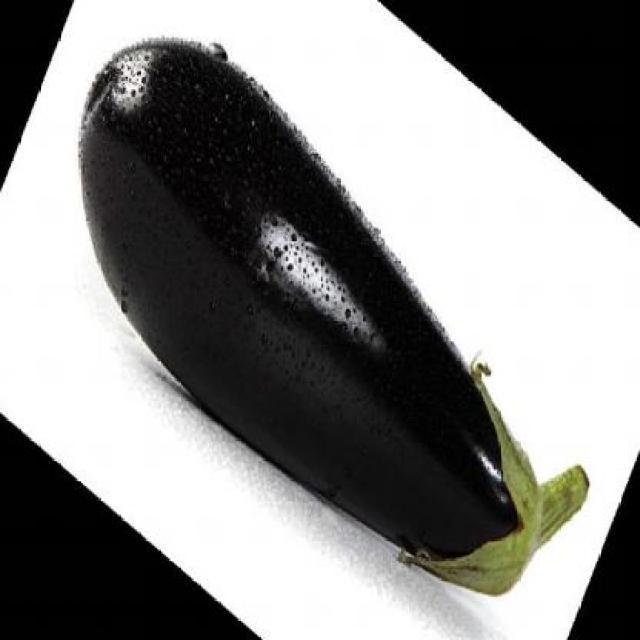eggplant: (23, 31, 596, 638)
